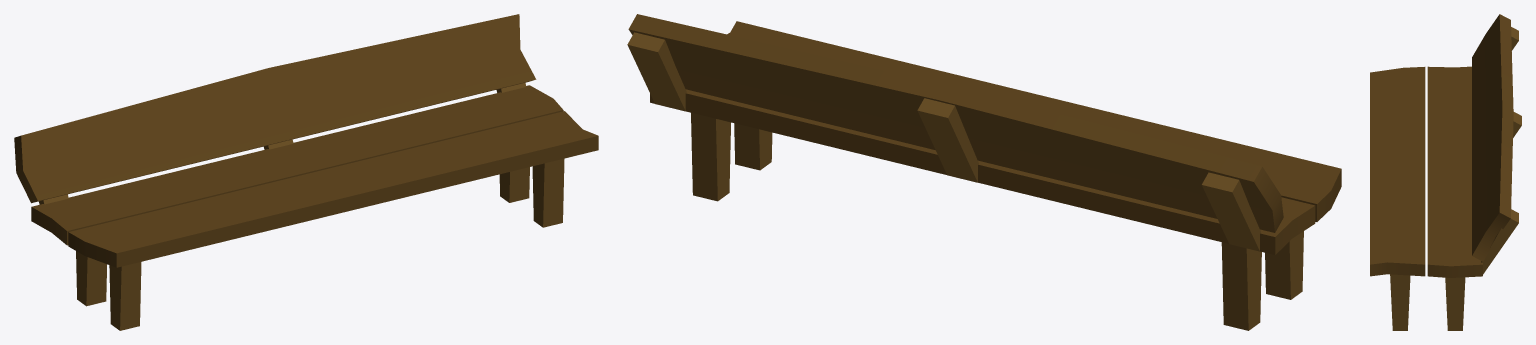
File: mesh_bench_2.fbx
3 views of the same model, side by side, from view 1: azimuth 30°, elevation 25°; view 2: azimuth 150°, elevation 25°; view 3: azimuth 270°, elevation 25° (orthographic). The views are drawn at different scales.
Visible parts, largest first — view 1: bench_2; view 2: bench_2; view 3: bench_2.
Boxes of the visible parts, x1=… form: bench_2: x1=14, y1=14, x2=598, y2=330; bench_2: x1=627, y1=14, x2=1341, y2=330; bench_2: x1=1370, y1=14, x2=1521, y2=330.
Size of the model in its own units: 356 by 108 by 112.
Materials: 1 (1 with a texture image).
